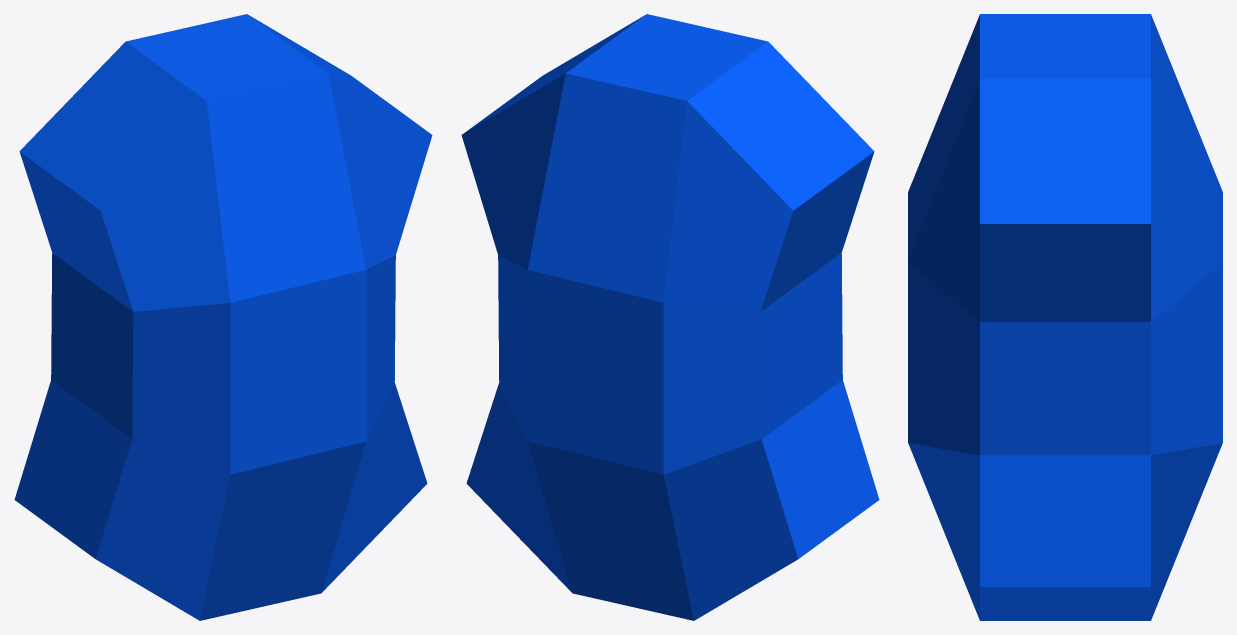
File: Lapis.fbx
3 views of the same model, side by side, from view 1: azimuth 30°, elevation 25°; view 2: azimuth 150°, elevation 25°; view 3: azimuth 270°, elevation 25° (orthographic). The views are drawn at different scales.
Visible parts, largest first — view 1: Lapis; view 2: Lapis; view 3: Lapis.
Part boxes in pixels (x1=…): Lapis: x1=14, y1=14, x2=432, y2=620; Lapis: x1=461, y1=14, x2=879, y2=620; Lapis: x1=908, y1=14, x2=1222, y2=620.
Bounding box in the file's own units: 135 × 200 × 104.
